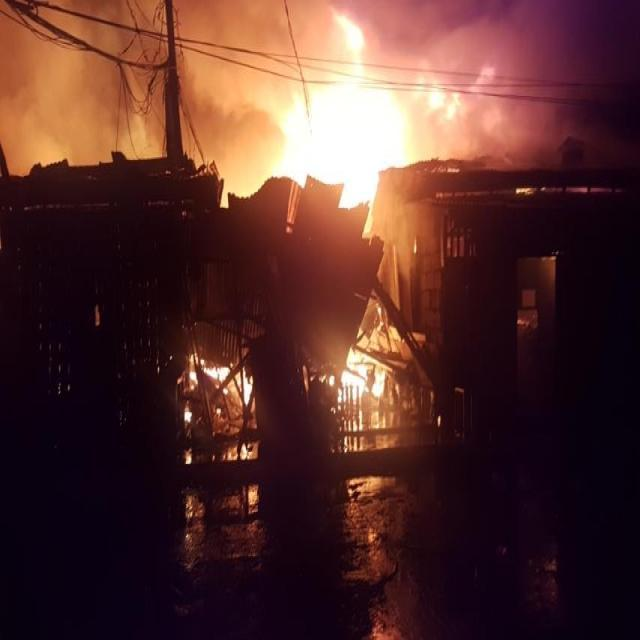Fire: (273, 18, 412, 218), (198, 358, 254, 407), (336, 353, 386, 402)
